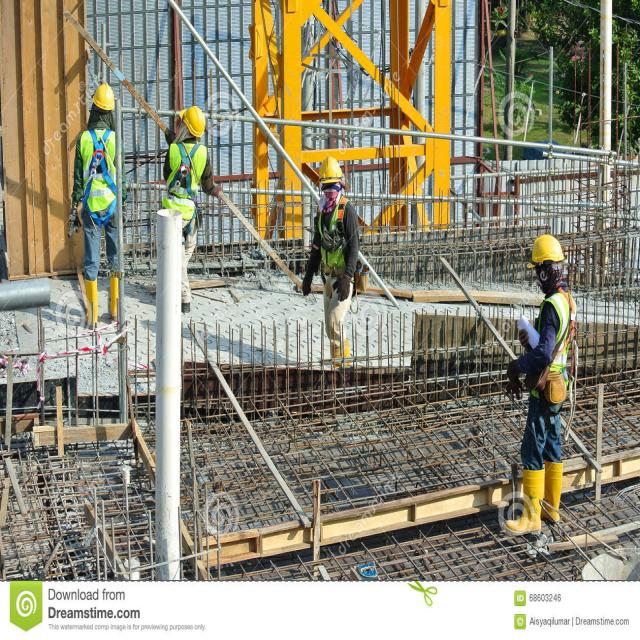Reflective-Jacket: (530, 288, 574, 403), (162, 139, 210, 221), (78, 125, 118, 212), (316, 196, 352, 278)
Safety-Helmet: (528, 231, 567, 265), (182, 102, 208, 136), (318, 153, 344, 183), (92, 80, 116, 111)
